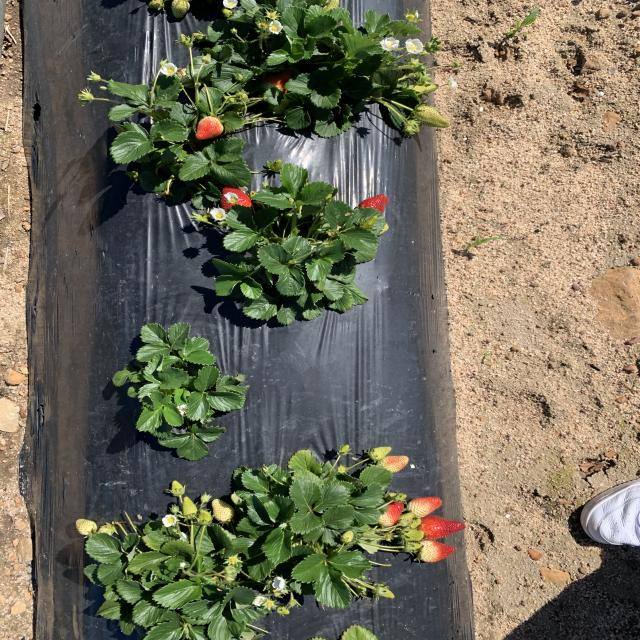unripe: (407, 516, 467, 538), (354, 193, 391, 220), (218, 183, 252, 212), (373, 501, 405, 525), (194, 116, 224, 140)
